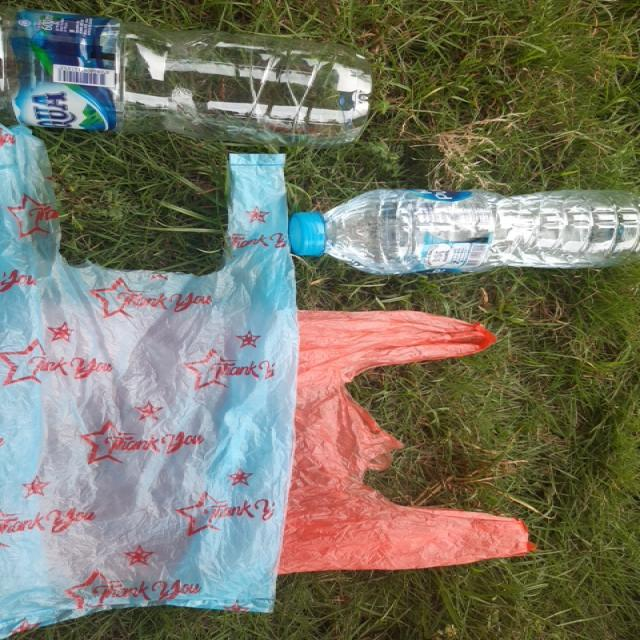Single-layer Plastic: (0, 126, 298, 637), (279, 311, 534, 574)
